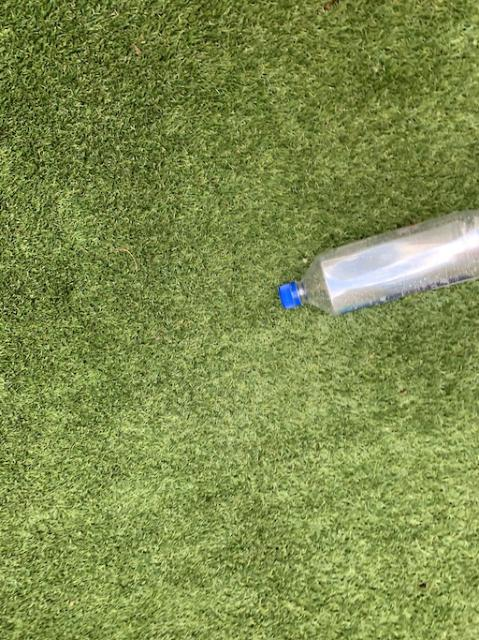plastic: (278, 210, 478, 313)
